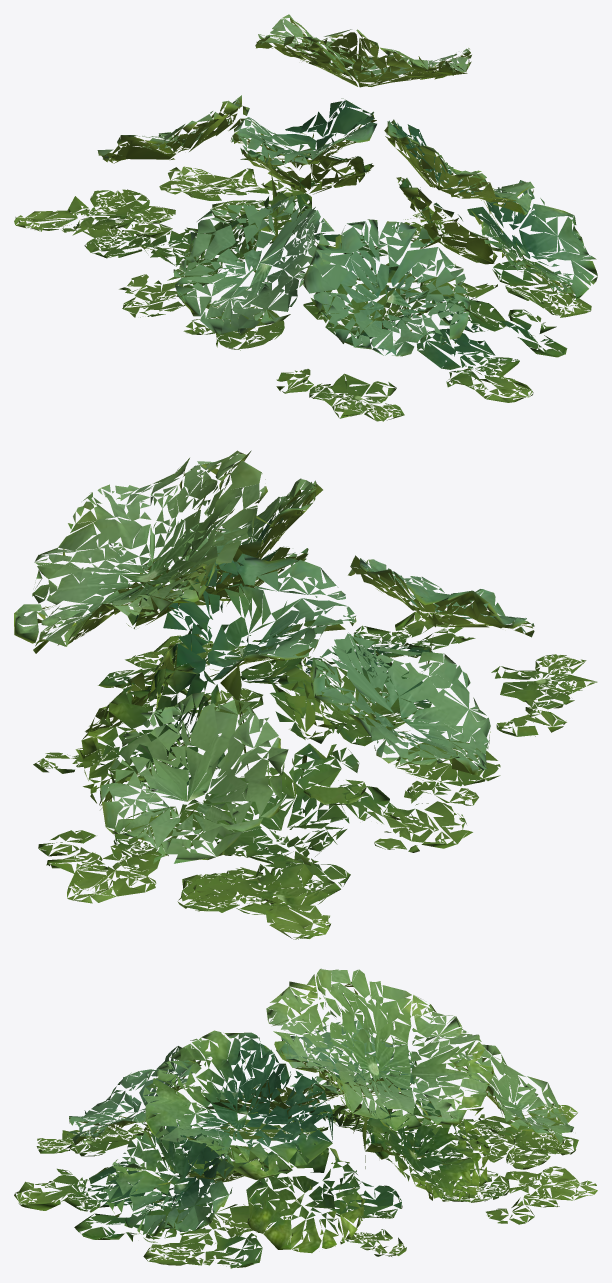
File: pond_lotus.glb
3 views of the same model, one above another, from view 1: azimuth 30°, elevation 25°; view 2: azimuth 150°, elevation 25°; view 3: azimuth 270°, elevation 25° (orthographic). The views are drawn at different scales.
Size of the model in its own units: 0.5921 by 0.3901 by 0.8955.
1 material, 1 textured.
